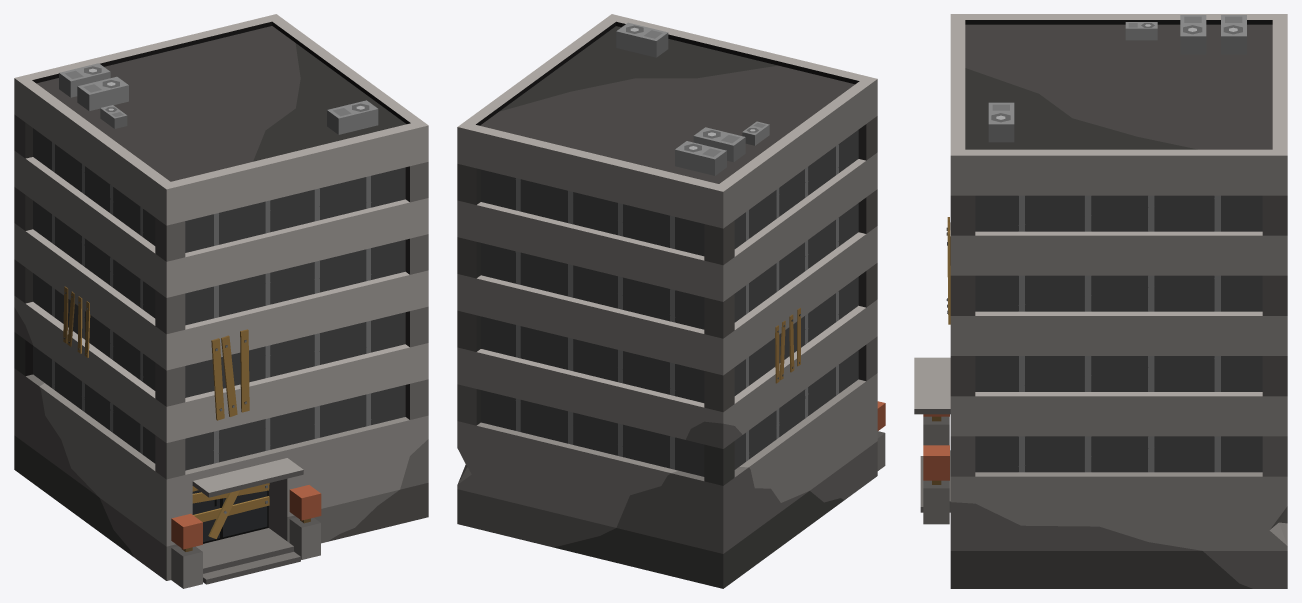
File: SA_Bld_OfficeGrey_02.glb
The picture shows the model from 3 angles, left to right: view 1: azimuth 30°, elevation 25°; view 2: azimuth 150°, elevation 25°; view 3: azimuth 270°, elevation 25°; orthographic projection. The views are drawn at different scales.
Visible parts, largest first — view 1: SA_Bld_OfficeGrey_02; view 2: SA_Bld_OfficeGrey_02; view 3: SA_Bld_OfficeGrey_02.
Boxes of the visible parts, x1,y1,x2,y2 form: SA_Bld_OfficeGrey_02: [14, 14, 428, 588]; SA_Bld_OfficeGrey_02: [457, 14, 885, 588]; SA_Bld_OfficeGrey_02: [914, 14, 1287, 588].
Size of the model in its own units: 5.77 by 8.42 by 6.37.
Materials: 1 (1 with a texture image).
